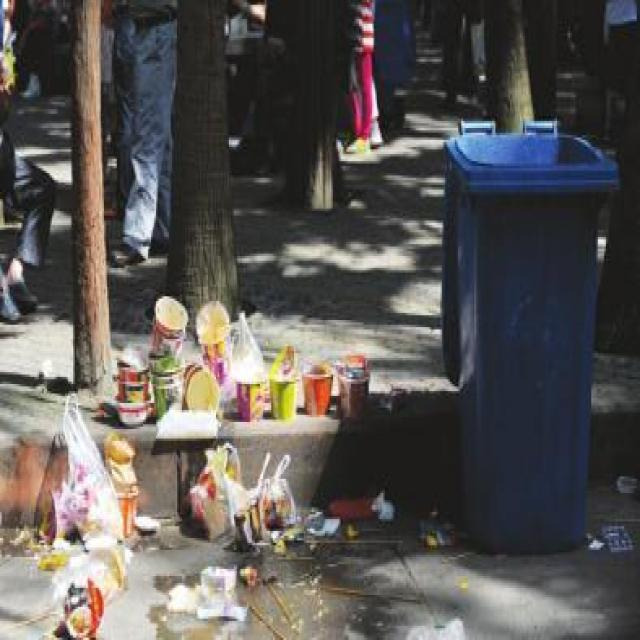garbage: (39, 292, 393, 638)
garbage_bin: (438, 118, 619, 550)
